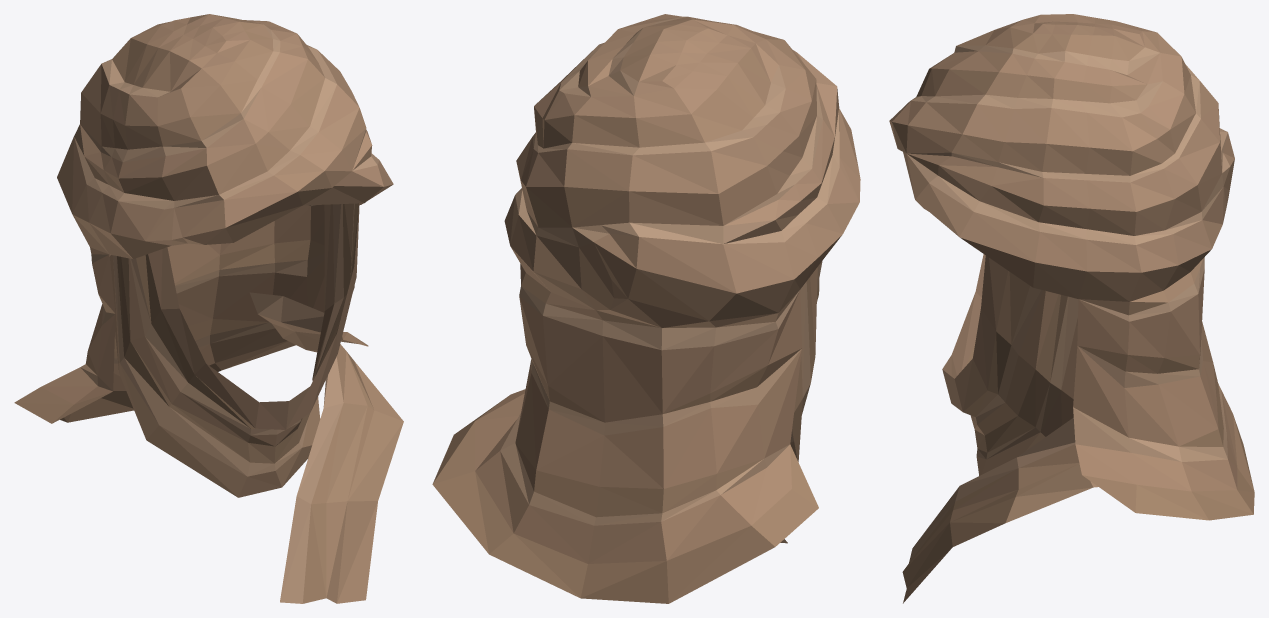
Rendered from desertTurbanOpenBeige.glb.
3 views of the same model, side by side, from view 1: azimuth 30°, elevation 25°; view 2: azimuth 150°, elevation 25°; view 3: azimuth 270°, elevation 25° (orthographic). The views are drawn at different scales.
Parts seen in each view (by area): view 1: desertTurbanOpenBeige; view 2: desertTurbanOpenBeige; view 3: desertTurbanOpenBeige.
Part boxes in pixels (left/top/right/bottom): desertTurbanOpenBeige: left=14, top=14, right=403, bottom=603; desertTurbanOpenBeige: left=432, top=14, right=860, bottom=603; desertTurbanOpenBeige: left=889, top=14, right=1254, bottom=603.
Bounding box in the file's own units: 0.3616 × 0.5639 × 0.3416.
